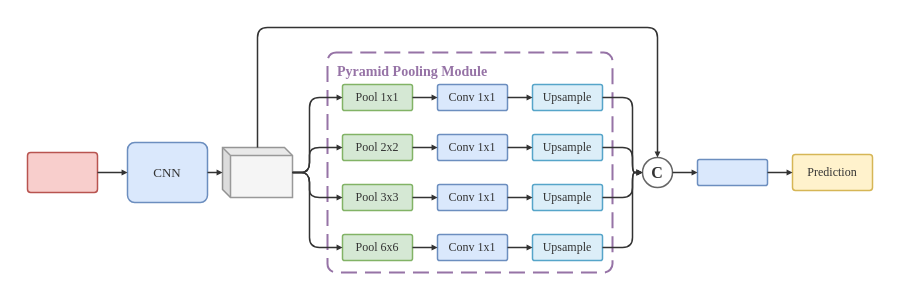
Some shapes in this 899 by 299 pixel diagram are drawn without their labels. Here are the shapes that lost their labels. From the top down, the centre of each, then its label:
At pixel 62 172: "Image".
At pixel 257 172: "Feature Map".
At pixel 732 172: "Conv".
